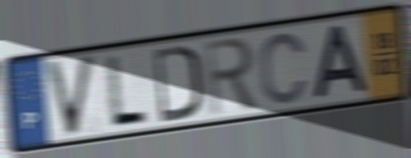A: (309, 22, 372, 102)
C: (258, 29, 311, 107)
D: (151, 42, 204, 126)
L: (104, 52, 150, 127)
R: (203, 34, 261, 119)
V: (42, 52, 98, 140)
